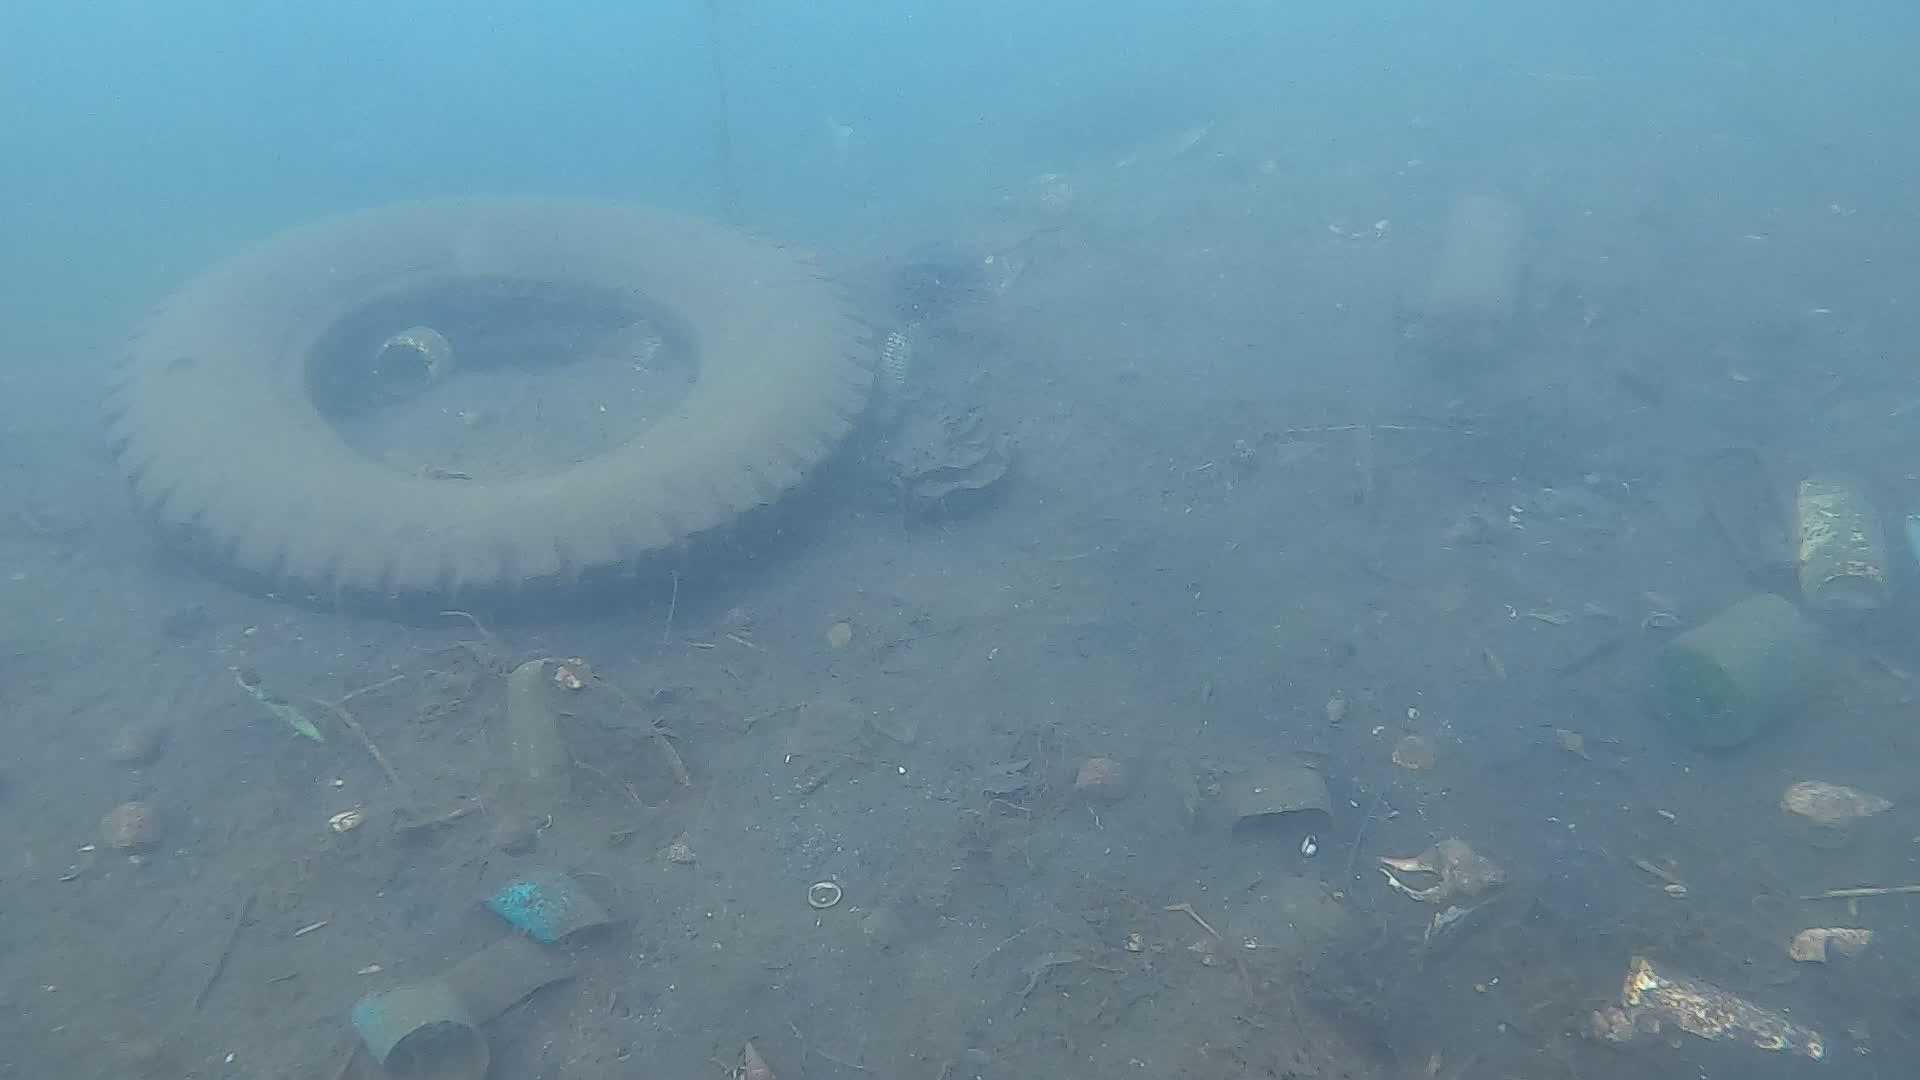tire: (108, 187, 877, 624)
